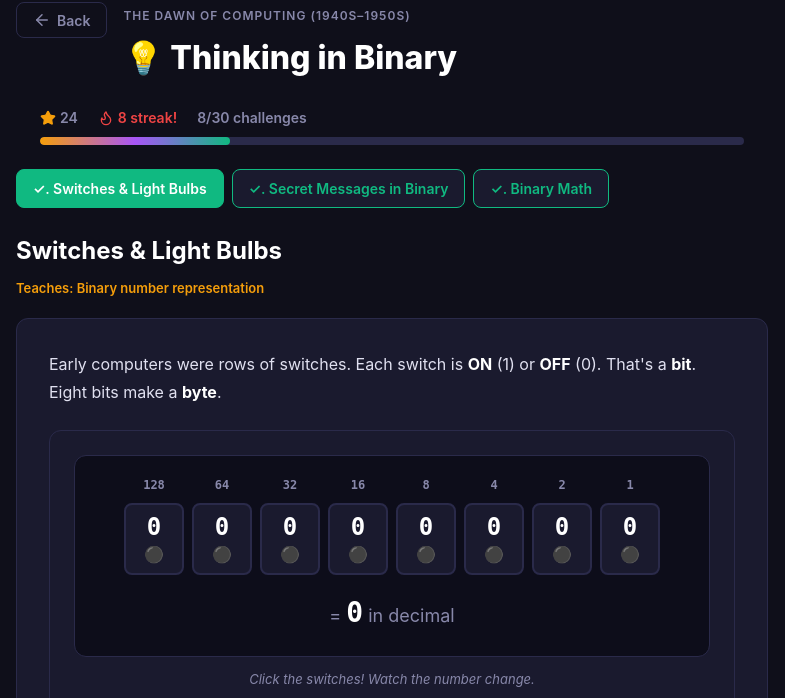
Scenario: ModulePage challenge flow › shows "Next Module" when all lessons in module are complete
The image size is (785, 698).
// Navigate to the last lesson tab
Click the tab "✓. Binary Math": (541,189) [474,169,609,208]
(page scrolled)
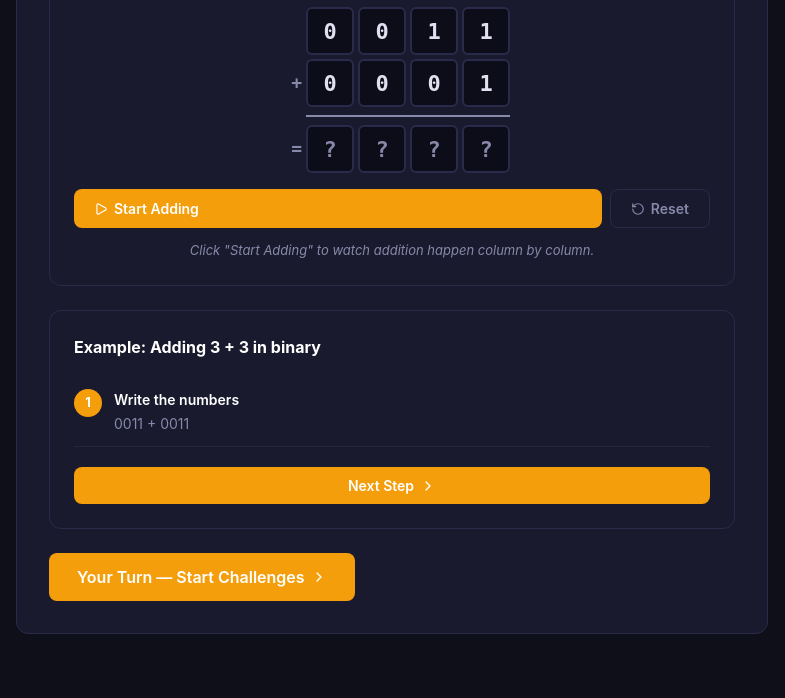
Click the button with test id "start-challenges": (202,577) [49,553,355,601]
(page scrolled)
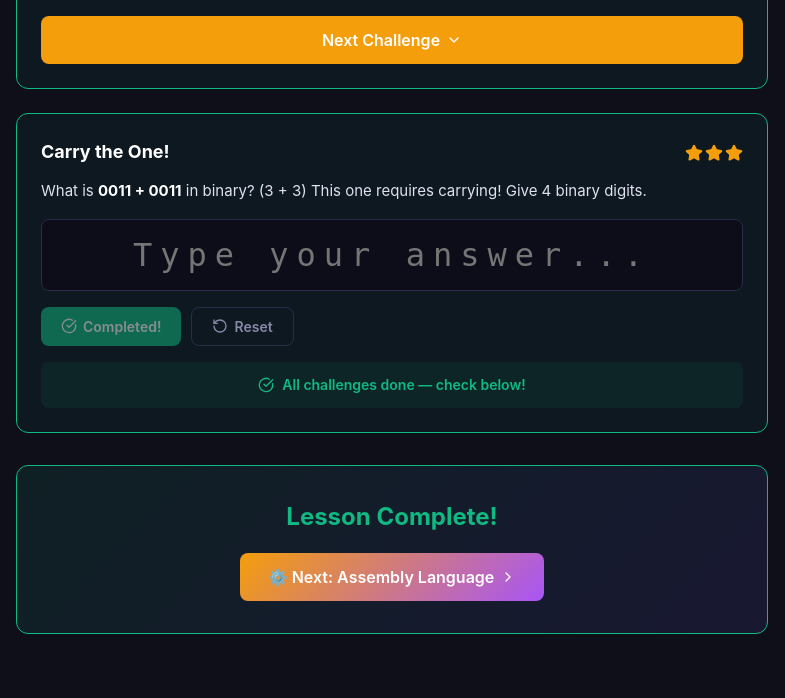
Result: the button with test id "next-module" shows "Assembly" at [240,553,544,601]
